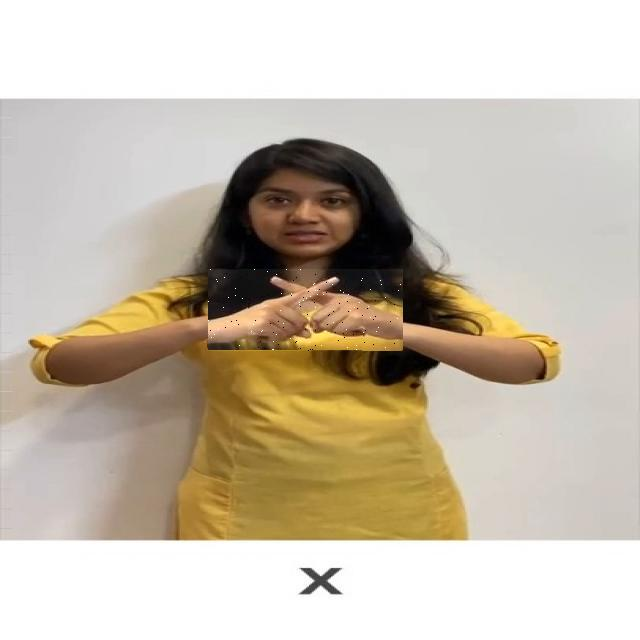X: (208, 269, 403, 351)
